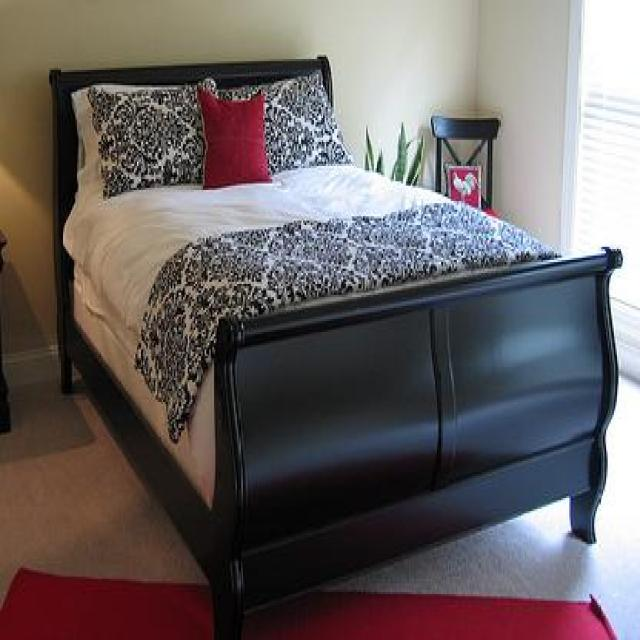bed: (48, 52, 623, 638)
